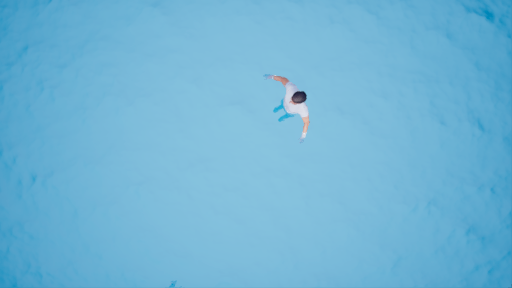person: (258, 72, 316, 142)
